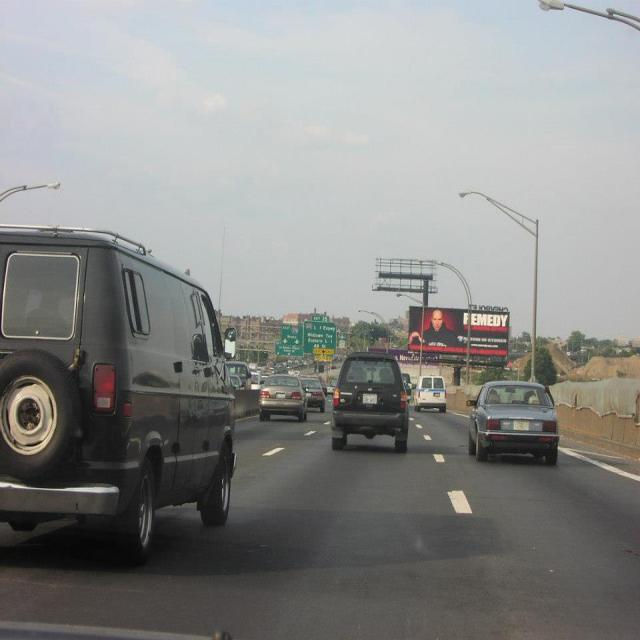Electric pole: (461, 190, 540, 383)
